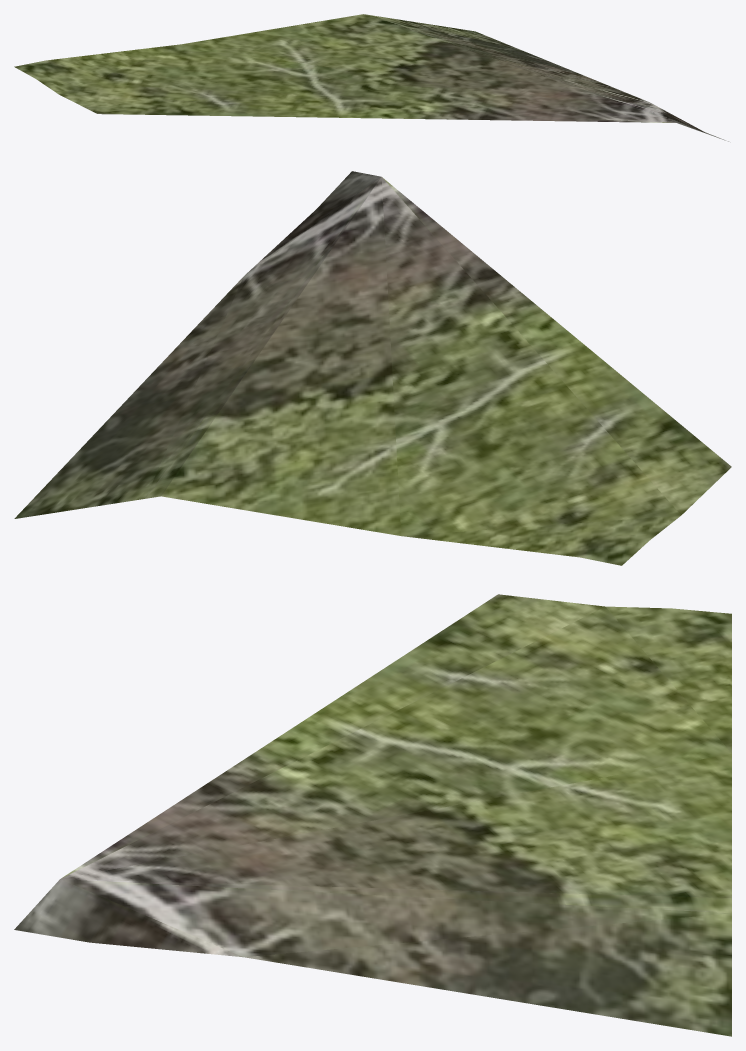
3 renders of one model, top to bottom at view 1: azimuth 30°, elevation 25°; view 2: azimuth 150°, elevation 25°; view 3: azimuth 270°, elevation 25°, orthographic. The views are drawn at different scales.
Bounding box in the file's own units: 2.95 × 0.5719 × 2.84.
Materials: 2 (2 with a texture image).
